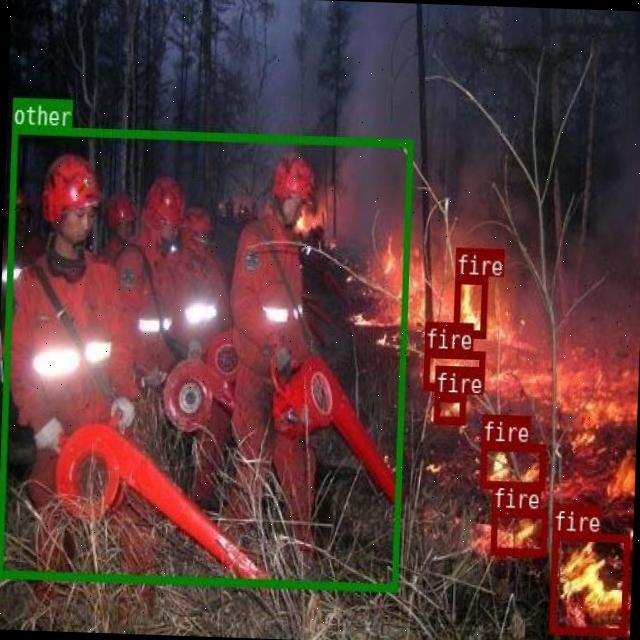fire: (548, 530, 628, 634), (480, 442, 544, 488), (489, 508, 547, 554), (422, 348, 483, 389), (452, 274, 486, 336), (432, 391, 463, 423)
